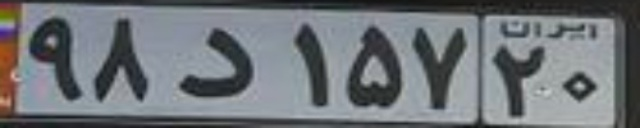0: (558, 71, 602, 103)
1: (290, 22, 328, 106)
2: (492, 44, 550, 117)
5: (346, 25, 403, 106)
7: (411, 25, 472, 110)
8: (89, 17, 152, 102)
9: (26, 16, 80, 101)
dal: (179, 26, 254, 98)
